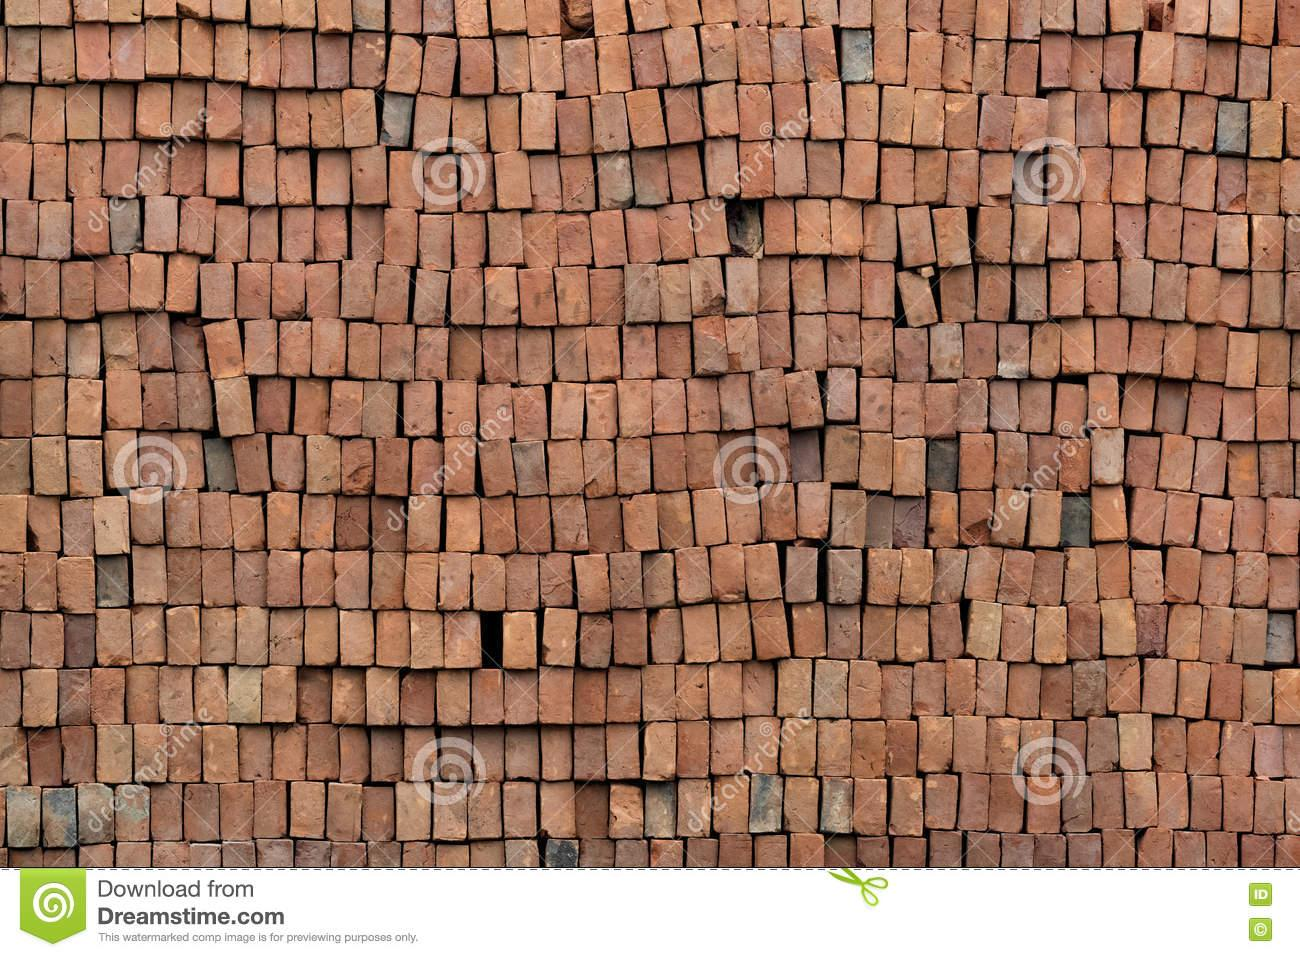brick: (625, 89, 666, 147), (203, 319, 243, 379), (214, 377, 254, 436), (751, 600, 790, 659), (897, 206, 936, 267), (519, 268, 557, 326), (663, 26, 701, 85), (897, 272, 938, 327), (591, 93, 629, 152), (934, 207, 971, 267), (664, 86, 702, 143), (233, 434, 272, 492), (495, 150, 532, 209), (1180, 95, 1218, 151), (421, 36, 457, 96), (414, 94, 451, 151), (751, 367, 788, 425), (991, 489, 1028, 546), (7, 785, 42, 846), (977, 95, 1015, 150), (629, 32, 667, 88), (106, 370, 142, 429), (682, 605, 719, 663), (780, 718, 817, 776), (745, 543, 782, 600), (692, 199, 729, 256), (658, 203, 694, 260), (590, 210, 627, 268), (689, 257, 726, 315), (786, 370, 823, 428), (700, 23, 737, 81), (94, 496, 130, 553), (736, 26, 772, 84), (964, 546, 1002, 601), (574, 554, 611, 612), (57, 558, 95, 613), (386, 35, 422, 93), (96, 725, 132, 782), (967, 600, 1001, 660), (997, 549, 1035, 605), (843, 141, 878, 200), (625, 264, 660, 323), (554, 267, 589, 325), (777, 659, 813, 718), (327, 782, 362, 841), (479, 439, 516, 496), (760, 484, 796, 540), (165, 490, 201, 546), (907, 32, 944, 89), (96, 609, 132, 665), (989, 775, 1025, 832), (433, 781, 467, 841), (396, 781, 430, 841), (79, 783, 113, 843), (1011, 97, 1049, 151), (666, 147, 703, 202), (551, 496, 588, 550), (557, 98, 592, 155), (351, 146, 387, 204), (1012, 206, 1048, 263), (374, 264, 410, 322), (137, 313, 173, 370), (177, 371, 212, 429), (658, 492, 693, 549), (22, 669, 58, 727), (203, 725, 238, 782), (714, 775, 749, 833), (184, 783, 219, 841), (633, 149, 669, 205), (1181, 154, 1217, 210), (976, 207, 1012, 262), (626, 209, 662, 264), (67, 380, 103, 435), (548, 440, 584, 496), (623, 495, 659, 550), (802, 26, 839, 82), (675, 547, 712, 603), (1166, 605, 1202, 660), (342, 89, 376, 147), (693, 316, 728, 375), (307, 434, 341, 493), (32, 436, 67, 495), (832, 490, 866, 548), (889, 777, 924, 836), (206, 83, 241, 139), (598, 153, 633, 210), (180, 197, 215, 253), (74, 198, 109, 254), (341, 260, 376, 317), (719, 374, 754, 430), (1159, 434, 1194, 491), (230, 495, 265, 551), (586, 496, 622, 552), (867, 549, 902, 606), (1139, 31, 1174, 88), (1101, 599, 1136, 655), (167, 606, 200, 665), (43, 787, 77, 847), (1147, 148, 1183, 203), (512, 386, 548, 440), (445, 613, 481, 667), (809, 82, 844, 139), (880, 86, 914, 143), (389, 151, 423, 209), (1148, 204, 1182, 261), (1153, 262, 1187, 320), (312, 318, 346, 376), (133, 545, 168, 603), (1233, 608, 1268, 665), (598, 35, 632, 93), (503, 612, 537, 669), (563, 38, 598, 96), (851, 721, 885, 778), (1025, 776, 1060, 834), (136, 83, 172, 138), (523, 212, 558, 268), (413, 270, 448, 325), (725, 316, 760, 371), (294, 380, 329, 435), (1164, 491, 1199, 546), (932, 548, 967, 604), (1120, 258, 1154, 317), (658, 263, 691, 322), (130, 487, 164, 545), (24, 552, 58, 611), (134, 724, 168, 782), (701, 82, 738, 135), (1092, 487, 1128, 540), (68, 141, 102, 198), (25, 260, 60, 317), (589, 269, 624, 325), (142, 373, 177, 429), (618, 381, 652, 437), (478, 384, 513, 440), (959, 433, 993, 490), (1131, 488, 1166, 544), (481, 497, 516, 553), (1265, 498, 1299, 554), (334, 551, 368, 608), (405, 553, 439, 610), (496, 36, 530, 93), (814, 660, 848, 717), (745, 717, 779, 773), (168, 725, 202, 781), (291, 781, 325, 838), (115, 784, 149, 841), (773, 84, 808, 138), (103, 142, 138, 197), (1111, 149, 1147, 204), (979, 153, 1014, 208), (796, 199, 832, 253), (791, 258, 827, 313), (102, 315, 137, 369), (482, 328, 518, 383), (685, 433, 721, 488), (513, 441, 548, 496), (110, 24, 145, 79), (610, 552, 645, 607), (529, 36, 564, 91), (540, 782, 575, 837), (243, 145, 276, 205), (522, 92, 555, 149), (461, 153, 495, 211), (485, 267, 519, 324), (551, 382, 584, 439), (105, 430, 138, 488), (375, 438, 409, 496), (874, 26, 907, 84), (132, 606, 166, 663), (539, 666, 572, 724), (750, 774, 783, 832), (308, 92, 342, 147), (863, 205, 897, 260), (200, 262, 234, 318), (237, 262, 272, 318), (518, 329, 552, 385), (362, 382, 397, 437), (825, 426, 859, 482), (652, 435, 686, 491), (76, 23, 110, 79), (517, 497, 551, 552), (770, 27, 804, 83), (1166, 547, 1200, 603), (899, 549, 934, 605), (91, 668, 125, 724), (918, 717, 953, 772), (32, 377, 65, 435), (438, 552, 470, 611), (544, 608, 576, 666), (643, 722, 675, 780), (1181, 211, 1216, 264), (706, 139, 739, 196), (38, 202, 72, 258), (166, 254, 199, 311), (862, 261, 895, 318), (382, 324, 415, 381), (69, 440, 102, 497), (181, 19, 214, 76), (693, 489, 727, 545), (215, 24, 248, 81), (712, 544, 745, 601), (1034, 607, 1067, 663), (411, 612, 444, 668), (642, 664, 675, 721), (228, 666, 261, 723), (366, 668, 400, 725), (62, 726, 95, 782), (28, 729, 62, 785), (854, 779, 887, 836), (677, 779, 711, 836), (253, 781, 287, 838), (220, 783, 253, 840), (560, 156, 594, 211), (940, 268, 974, 322), (1128, 321, 1165, 373), (653, 379, 687, 433), (1188, 383, 1222, 437), (1192, 439, 1226, 494), (1198, 498, 1232, 552), (270, 611, 305, 665), (340, 611, 374, 665), (607, 667, 641, 722), (784, 777, 819, 832), (912, 89, 945, 146), (0, 142, 32, 200), (385, 208, 417, 265), (726, 257, 758, 315), (995, 432, 1027, 490), (893, 438, 926, 496), (583, 440, 616, 498), (1035, 606, 1067, 663), (954, 716, 986, 773), (819, 719, 851, 776), (1198, 553, 1233, 606), (31, 87, 65, 142), (1251, 215, 1284, 271), (130, 253, 164, 309), (977, 265, 1010, 321), (1187, 267, 1220, 322), (758, 312, 791, 367), (1061, 318, 1094, 374), (244, 319, 278, 375), (861, 320, 894, 376), (1163, 323, 1196, 379), (256, 378, 290, 433), (329, 380, 362, 435), (443, 381, 476, 436), (617, 438, 650, 494), (408, 496, 441, 551), (446, 497, 479, 552), (168, 549, 201, 605), (267, 550, 301, 606), (1031, 550, 1064, 606), (234, 551, 267, 607), (1234, 551, 1268, 607), (371, 553, 405, 609), (472, 555, 506, 611), (281, 32, 314, 88), (1173, 35, 1206, 91), (931, 604, 964, 659), (202, 608, 235, 663), (710, 662, 743, 718), (262, 666, 296, 722), (159, 667, 193, 723), (332, 668, 365, 724), (607, 724, 640, 779), (1124, 772, 1158, 828), (504, 782, 537, 838), (468, 783, 502, 839), (1146, 91, 1180, 144), (380, 93, 414, 146), (278, 151, 312, 205), (489, 211, 523, 264), (623, 325, 657, 379), (145, 20, 180, 74), (301, 495, 335, 548), (267, 492, 299, 550), (63, 499, 94, 557), (172, 81, 204, 137), (1251, 101, 1283, 157), (773, 139, 805, 196), (740, 141, 772, 198), (33, 144, 66, 201), (947, 150, 979, 207), (831, 199, 863, 255), (1081, 202, 1113, 258), (215, 206, 247, 262), (96, 254, 128, 311), (62, 261, 94, 318), (0, 321, 32, 378), (68, 323, 100, 380), (1225, 331, 1258, 388), (860, 433, 892, 490), (726, 486, 758, 542), (506, 554, 538, 611), (1200, 606, 1232, 662), (305, 609, 337, 665), (1073, 660, 1105, 717), (195, 666, 227, 723), (307, 724, 339, 780), (1120, 379, 1156, 430), (738, 85, 771, 139), (807, 142, 841, 197), (144, 196, 178, 250), (33, 320, 67, 375), (586, 326, 620, 381), (41, 28, 75, 83), (1063, 548, 1096, 603), (792, 603, 826, 657), (376, 612, 410, 666), (31, 614, 65, 668), (973, 40, 1006, 95), (1106, 657, 1140, 712), (1143, 659, 1176, 714), (557, 213, 591, 265), (489, 95, 520, 152), (444, 436, 475, 494), (720, 603, 751, 660), (850, 660, 881, 718), (127, 666, 158, 724), (277, 92, 309, 147), (453, 97, 485, 152), (881, 148, 913, 204), (828, 257, 860, 313), (1051, 260, 1083, 316), (273, 262, 305, 318), (451, 269, 483, 324), (794, 315, 827, 370), (279, 321, 311, 377), (931, 323, 963, 379), (585, 384, 618, 439), (1091, 428, 1123, 484), (411, 438, 443, 494), (28, 496, 61, 551), (1178, 662, 1210, 718), (437, 670, 469, 726), (958, 774, 990, 830), (206, 143, 239, 197), (914, 149, 948, 203), (317, 151, 350, 205), (453, 213, 486, 267), (658, 324, 691, 378), (1054, 384, 1087, 437), (1260, 443, 1293, 497), (960, 492, 993, 545), (829, 549, 862, 603), (1130, 550, 1164, 604), (316, 35, 349, 89), (273, 726, 306, 779), (610, 784, 643, 838), (0, 86, 31, 142), (1048, 202, 1079, 258), (173, 432, 204, 489), (200, 493, 231, 549), (248, 29, 280, 86), (203, 550, 234, 607), (1002, 605, 1034, 661), (1211, 663, 1242, 720), (59, 669, 90, 726), (988, 718, 1019, 774), (677, 721, 709, 777), (821, 776, 852, 833), (171, 144, 205, 196), (1248, 159, 1280, 214), (6, 200, 38, 254), (419, 215, 451, 270), (306, 262, 338, 317), (1096, 318, 1128, 373), (964, 323, 996, 378), (404, 381, 436, 435), (798, 483, 831, 537), (1030, 493, 1062, 547), (371, 497, 404, 551), (7, 28, 39, 83), (1097, 543, 1129, 598), (785, 547, 818, 602), (352, 32, 385, 87), (897, 607, 930, 661), (1006, 42, 1039, 97), (1205, 43, 1237, 98), (1119, 715, 1152, 769), (926, 774, 958, 829), (416, 327, 449, 380), (1126, 436, 1160, 489), (404, 728, 437, 780), (237, 607, 267, 664), (847, 84, 878, 139), (945, 93, 976, 148), (764, 199, 795, 254), (283, 207, 314, 262), (348, 323, 380, 379), (0, 381, 31, 436), (342, 438, 373, 494), (1092, 772, 1123, 828), (401, 674, 435, 725), (67, 85, 99, 138), (1216, 215, 1249, 269), (895, 328, 928, 382), (860, 378, 892, 431), (925, 384, 957, 437), (272, 436, 304, 490), (1058, 439, 1090, 493), (863, 607, 895, 660), (650, 609, 682, 662), (615, 611, 647, 664), (1154, 718, 1186, 771), (239, 727, 272, 780), (828, 314, 861, 365), (530, 154, 560, 211), (303, 549, 333, 606), (1242, 667, 1273, 724), (1062, 775, 1092, 832), (151, 784, 182, 841), (1252, 272, 1283, 326), (1259, 331, 1290, 386), (893, 383, 925, 437), (1027, 435, 1059, 490), (1232, 497, 1264, 551), (676, 665, 708, 720), (1041, 665, 1072, 720), (472, 669, 504, 724), (1238, 45, 1270, 100), (1188, 721, 1219, 775), (1109, 93, 1142, 145), (1085, 261, 1117, 314), (336, 497, 368, 549), (1007, 664, 1040, 717), (942, 35, 971, 93), (1271, 45, 1300, 103), (0, 727, 28, 786), (1155, 383, 1188, 433), (0, 438, 30, 494), (946, 659, 976, 715), (886, 721, 916, 776), (339, 727, 369, 782), (103, 85, 134, 138), (109, 200, 140, 253), (352, 208, 384, 261), (758, 257, 789, 311), (997, 324, 1028, 378), (1196, 327, 1227, 381), (555, 327, 586, 381), (688, 379, 720, 432), (1257, 387, 1288, 440), (540, 553, 571, 607), (644, 553, 675, 607), (460, 39, 492, 93), (913, 662, 945, 716), (299, 669, 330, 723), (1020, 721, 1052, 774), (712, 721, 743, 774), (362, 787, 394, 841), (828, 607, 860, 658), (505, 672, 537, 724), (575, 786, 608, 838), (0, 612, 29, 668), (315, 208, 346, 260), (1015, 268, 1047, 320), (1227, 444, 1259, 497), (1103, 35, 1134, 88), (580, 615, 612, 667), (574, 727, 606, 779), (1031, 323, 1060, 379), (930, 491, 959, 546), (977, 660, 1006, 716), (1077, 92, 1107, 145), (1115, 205, 1146, 258), (1219, 274, 1250, 327), (1136, 605, 1167, 658), (882, 665, 912, 719), (1055, 722, 1085, 775), (138, 144, 170, 196), (205, 440, 236, 492), (842, 30, 873, 82), (743, 663, 774, 715), (645, 785, 676, 837), (1240, 0, 1276, 45), (1019, 383, 1052, 432), (1217, 158, 1247, 213), (1073, 36, 1102, 91), (1222, 723, 1252, 777), (1159, 773, 1188, 828), (243, 92, 274, 144), (1080, 148, 1110, 201), (1089, 375, 1119, 427), (1042, 34, 1072, 87), (65, 615, 95, 667), (450, 329, 481, 380), (1223, 390, 1255, 440), (574, 672, 606, 723), (958, 379, 987, 432), (1088, 718, 1117, 771), (506, 733, 539, 779), (0, 495, 27, 551), (1223, 777, 1252, 832), (1191, 776, 1220, 829), (1255, 780, 1284, 833), (173, 324, 205, 371), (1217, 102, 1248, 152), (894, 500, 926, 548), (249, 208, 278, 261), (827, 368, 856, 420), (1270, 557, 1299, 609), (98, 557, 128, 607), (1253, 728, 1283, 777), (542, 730, 571, 780), (371, 733, 402, 781), (473, 734, 504, 781), (866, 496, 893, 548), (791, 433, 821, 482), (1274, 670, 1300, 724), (442, 732, 471, 779), (1049, 92, 1075, 144), (928, 440, 955, 491), (0, 256, 24, 313), (991, 382, 1018, 431), (1266, 615, 1294, 662), (1063, 497, 1089, 547), (0, 554, 23, 611), (975, 0, 1008, 39), (629, 0, 669, 31), (592, 0, 628, 35), (526, 0, 560, 36), (455, 0, 489, 36), (1009, 0, 1040, 39), (1174, 0, 1208, 34), (318, 0, 352, 33), (1209, 0, 1239, 37), (942, 0, 975, 33), (1109, 0, 1145, 31), (1, 670, 20, 727), (491, 0, 526, 30), (1277, 0, 1300, 45), (908, 0, 941, 32), (391, 0, 421, 33), (1041, 0, 1074, 29), (424, 0, 453, 33), (1077, 0, 1105, 34), (665, 0, 701, 26), (353, 0, 385, 30), (283, 0, 316, 28), (769, 0, 804, 26), (804, 0, 839, 26), (736, 0, 769, 26), (872, 0, 905, 26), (700, 0, 738, 23), (5, 0, 39, 25), (840, 0, 871, 27), (250, 0, 282, 25), (40, 0, 72, 25), (108, 0, 141, 22), (74, 0, 108, 21), (212, 0, 246, 20), (177, 0, 210, 17), (143, 0, 176, 17)
